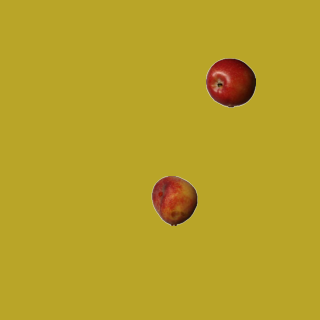Apple Braeburn: (205, 57, 255, 107)
Peach: (149, 175, 199, 225)
